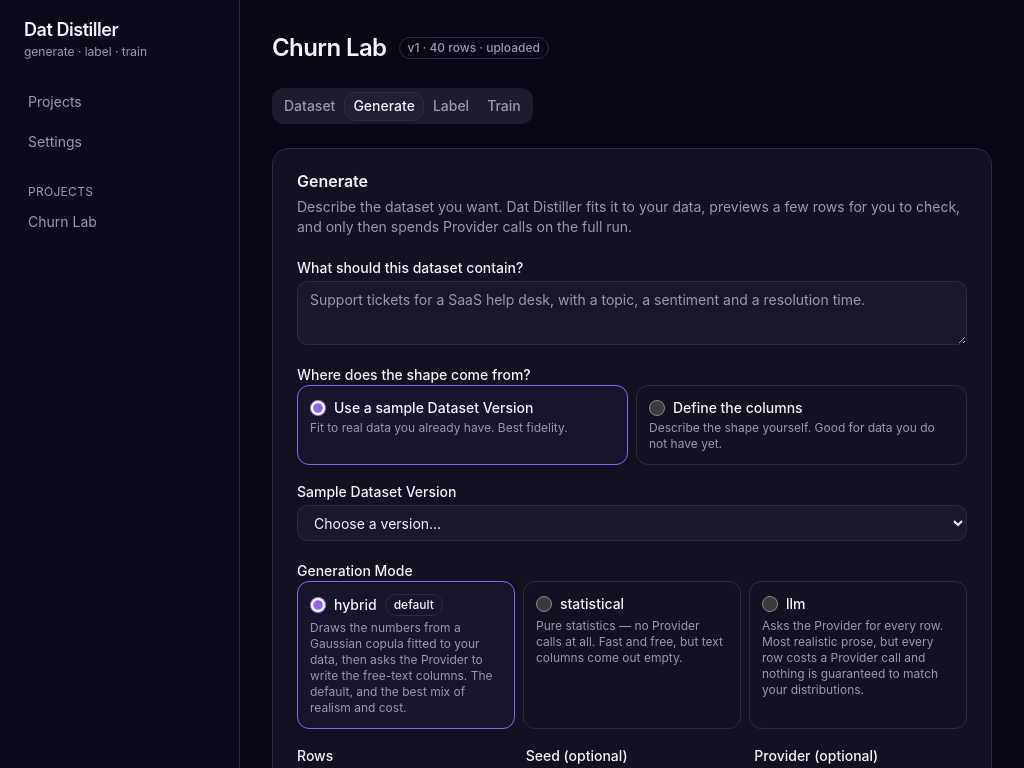
Test: Generate step — the preview gate › a free statistical Mode is honest about costing nothing
Type "support tickets" into the text box labelled "What should this dataset contain?" at x=632, y=313, box [297,281,967,345]
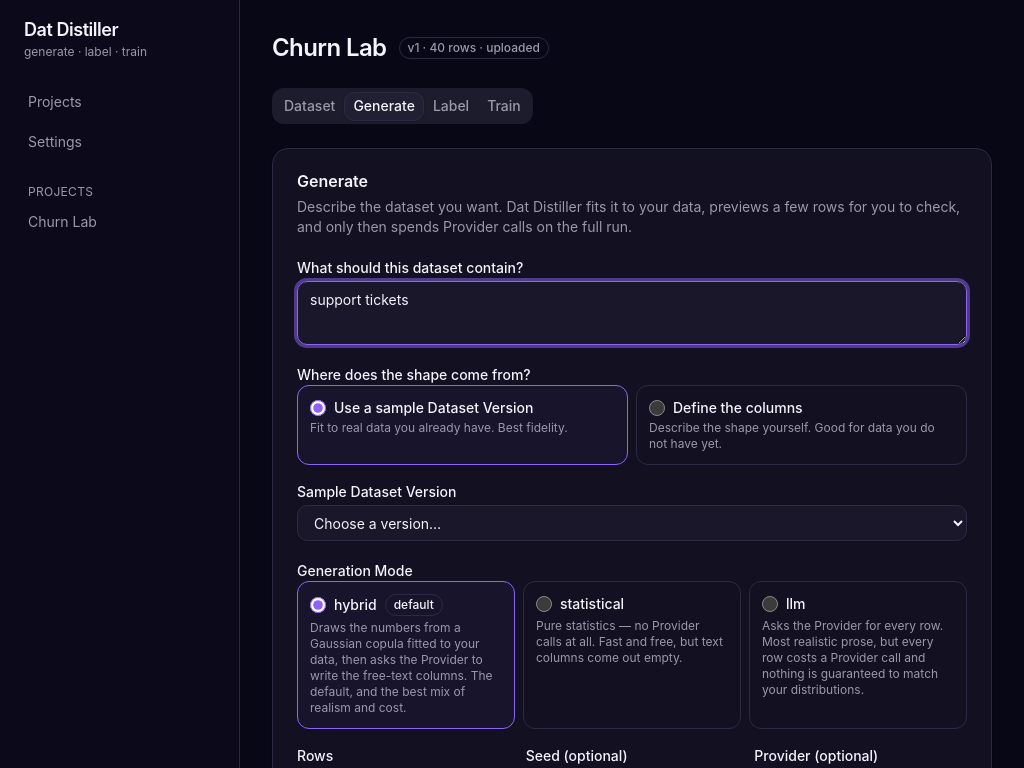
Select "v1 · 40 rows · uploaded" in the dropdown labelled "Sample Dataset Version" at x=632, y=523, box [297,505,967,541]
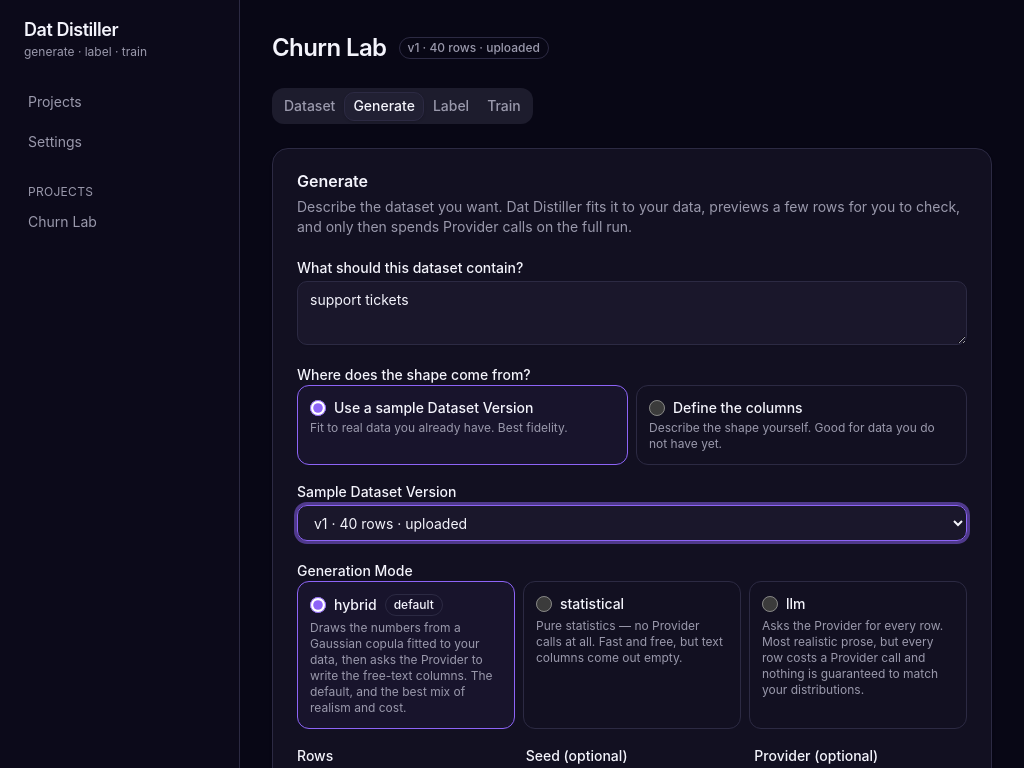
Click the radio button labelled "statistical" at x=544, y=604, box [536,596,552,612]
(page scrolled)
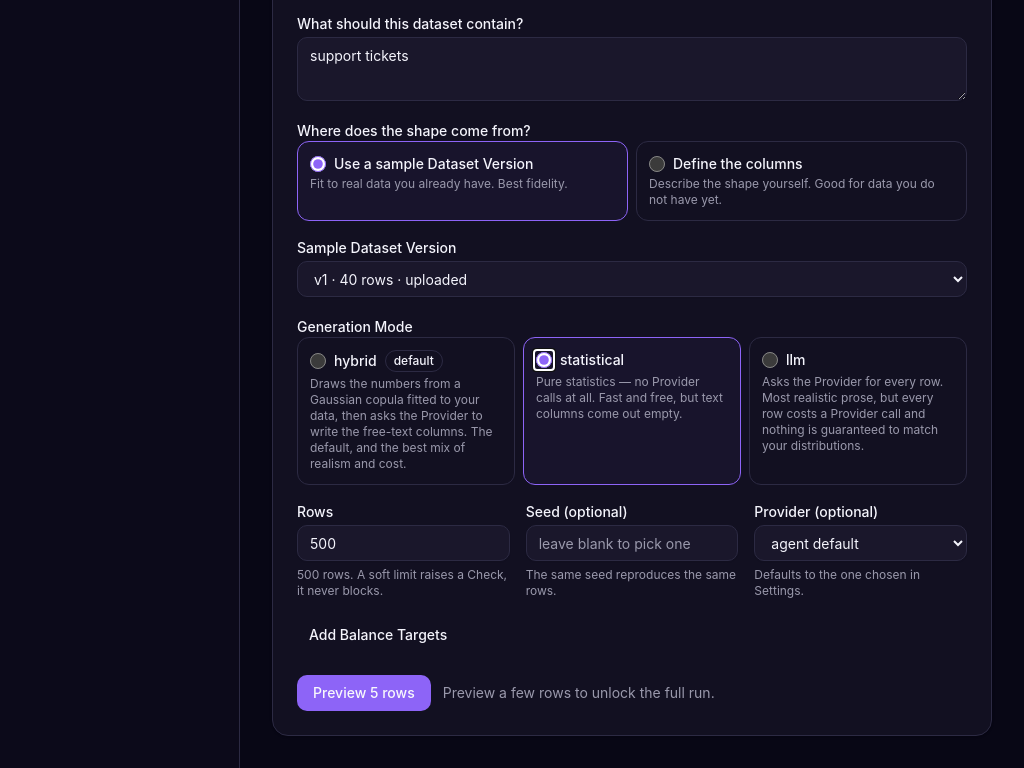
Click the button "Preview 5 rows" at x=364, y=693, box [297,675,431,711]
(page scrolled)
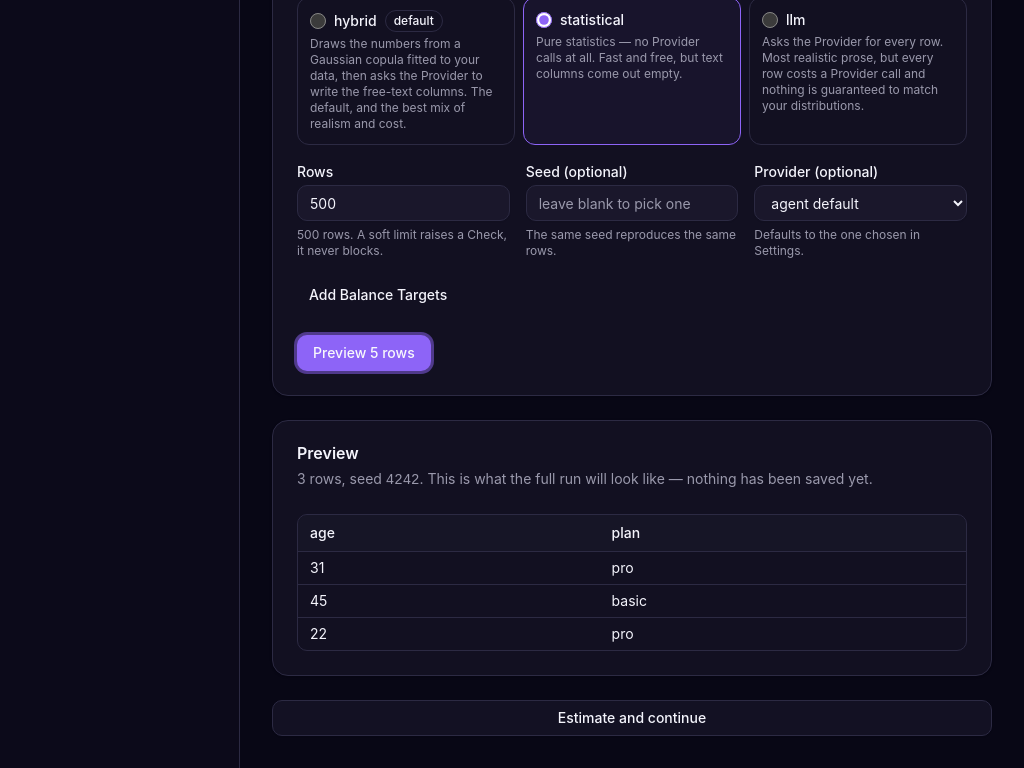
Check: the table is shown, box [298,515,966,650]
Click the button "Estimate and continue" at x=632, y=718, box [272,700,992,736]
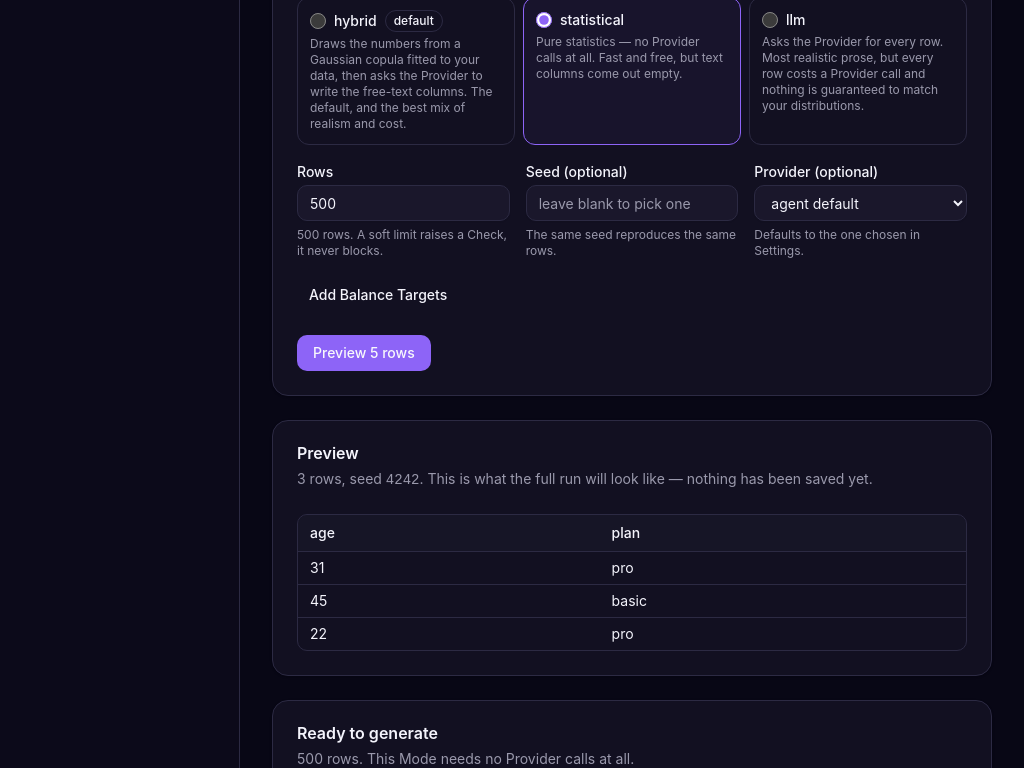
Check: the text "500 rows. This Mode needs no Provider calls at all." is shown, box [297,750,634,767]
